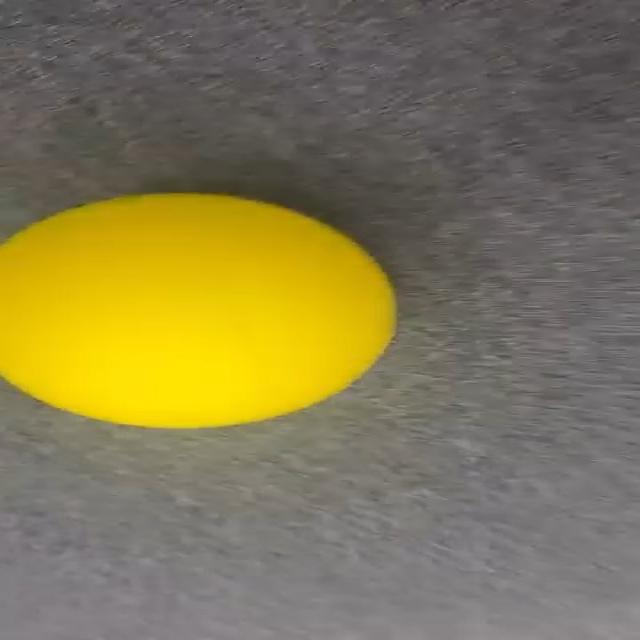Fuels: (0, 195, 393, 425)
